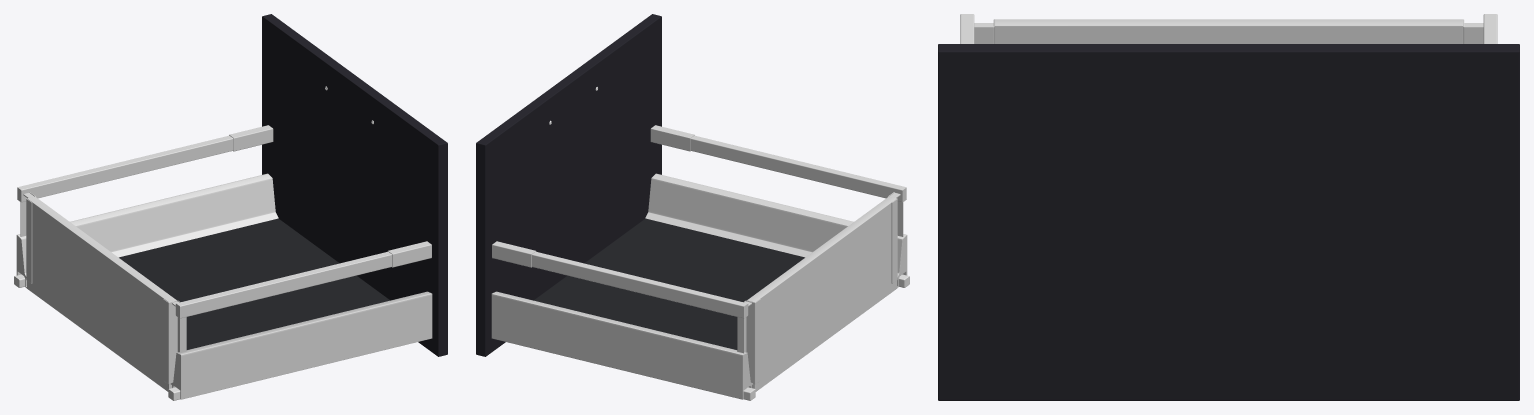
File: Kitchen05Drawer03.fbx
The picture shows the model from 3 angles, left to right: view 1: azimuth 30°, elevation 25°; view 2: azimuth 150°, elevation 25°; view 3: azimuth 270°, elevation 25°; orthographic projection. The views are drawn at different scales.
Visible parts, largest first — view 1: Kitchen05Drawer03; view 2: Kitchen05Drawer03; view 3: Kitchen05Drawer03.
Part boxes in pixels (box(x1,y1,x2,y2)): Kitchen05Drawer03: box(14, 14, 447, 400); Kitchen05Drawer03: box(476, 14, 909, 400); Kitchen05Drawer03: box(938, 14, 1519, 400).
Size of what is drawn, in the model's own units: 51.99 by 59.69 by 39.6.
Materials: 4 (1 with a texture image).
